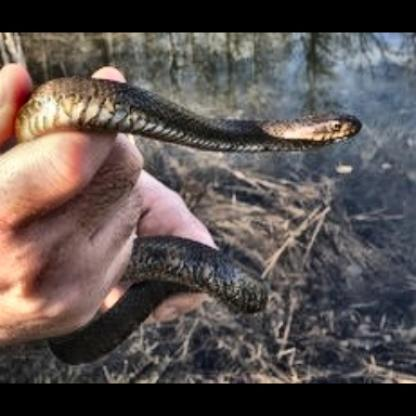Snake: (1, 96, 378, 375)
